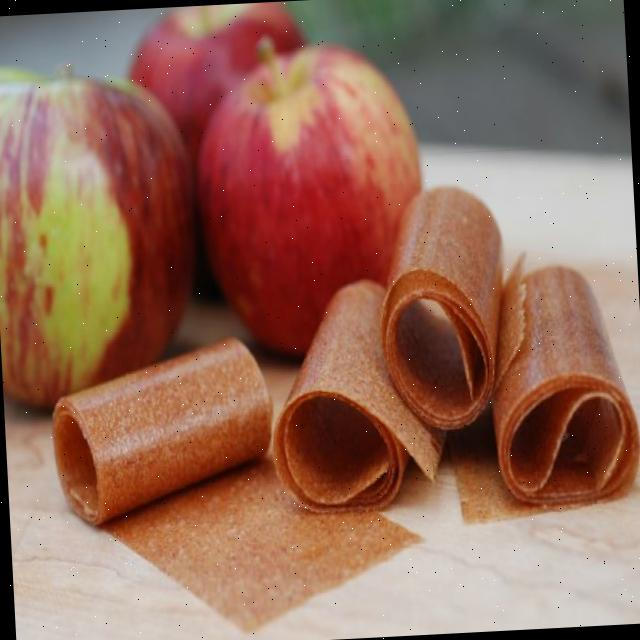Apel: (188, 33, 430, 363), (0, 58, 205, 413), (124, 1, 318, 303)
